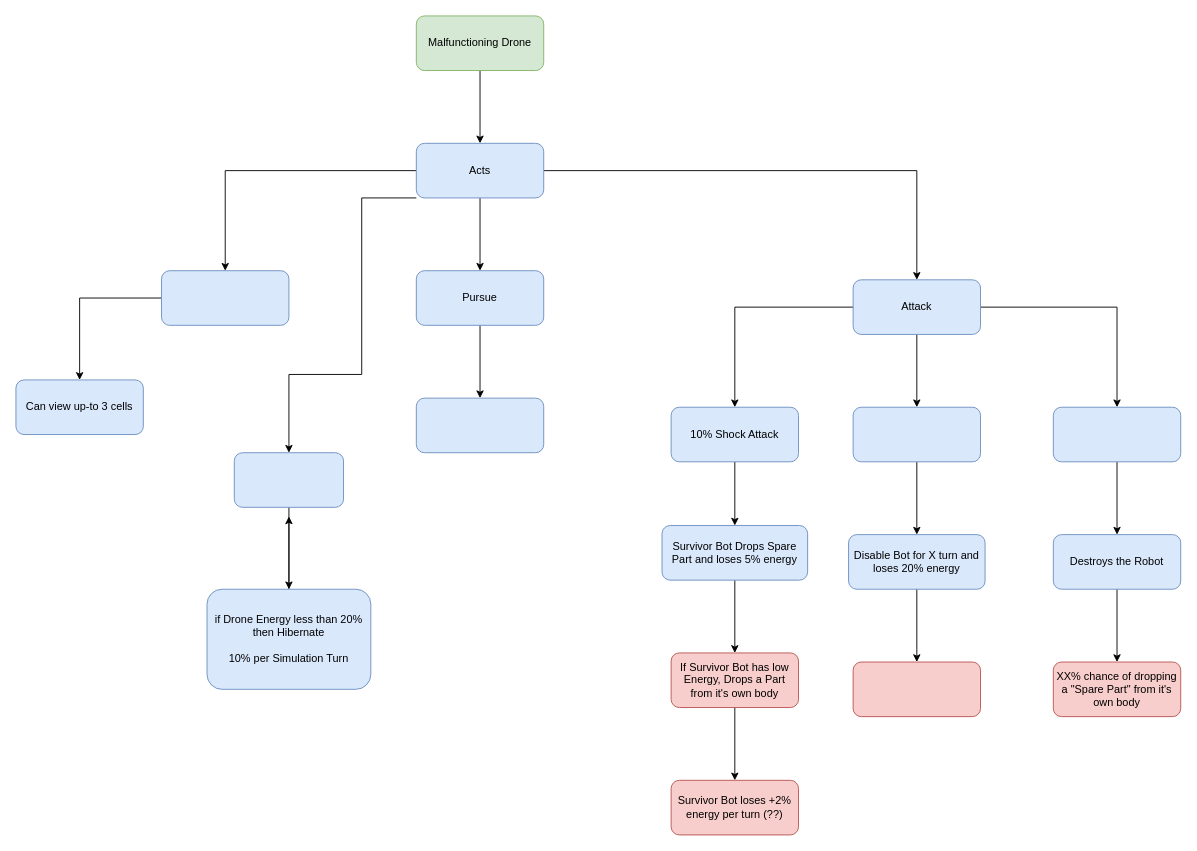
This 1197x851 diagram has some shape labels left out. Here are the shapes that lost their labels. From the top down, the centre of each, then its label:
At point 225,297: "Roaming".
At point 479,425: "Depletes Drone Energy by 20%".
At point 916,434: "20% Shock Attack".
At point 1116,434: "30% Shock Attack".
At point 288,479: "Hibernation".
At point 916,689: "1 turn per 5% of Shock Attack".
